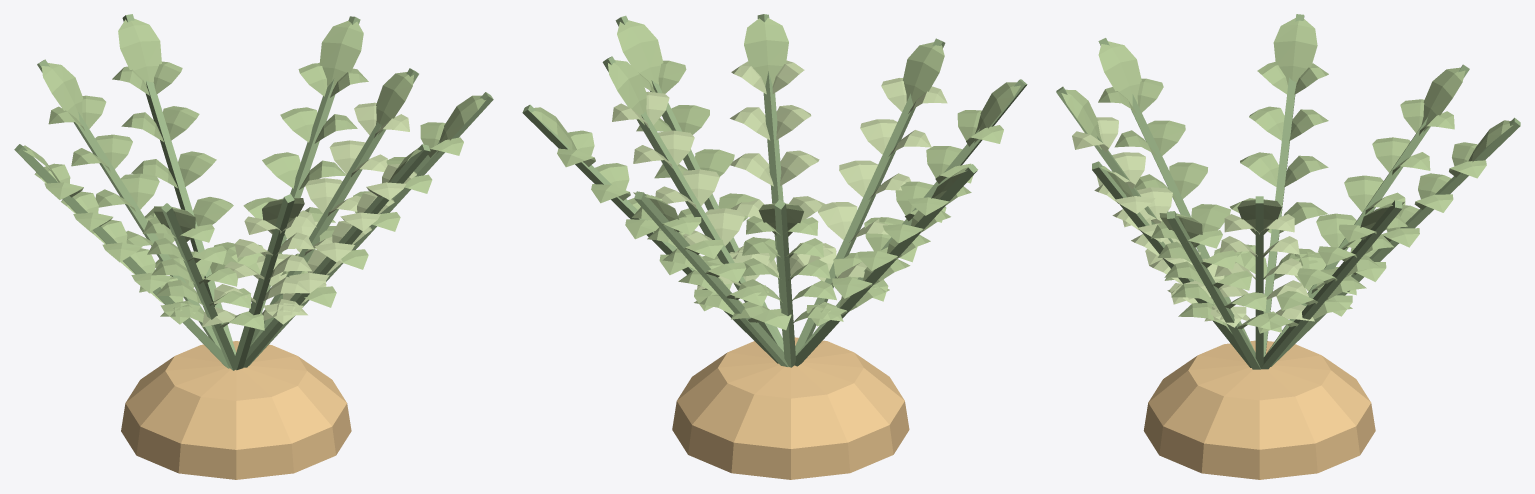
File: crafted-crop-carrot-3.glb
3 views of the same model, side by side, from view 1: azimuth 30°, elevation 25°; view 2: azimuth 150°, elevation 25°; view 3: azimuth 270°, elevation 25° (orthographic). The views are drawn at different scales.
Parts seen in each view (by area): view 1: root-shoulder, frond-tip-2, frond-tip-5, frond-tip-7, frond-tip, frond-stem-0-2, frond-stem-0-3, frond-stem-0, frond-stem-0-6, frond-stem-0-1, frond-stem-0-7, frond-stem-1-3 (+33 smaller); view 2: root-shoulder, frond-tip-3, frond-tip-8, frond-tip-6, frond-stem-0-6, frond-tip, frond-stem-0-2, frond-stem-0, frond-stem-0-4, frond-stem-1-5, frond-stem-1-2, frond-stem-0-7 (+33 smaller); view 3: root-shoulder, frond-tip-4, frond-tip-1, frond-stem-0-5, frond-tip-7, frond-stem-0-4, frond-stem-0-8, frond-stem-1-2, frond-stem-1-5, frond-tip-6, frond-stem-1-3, carrot-leaflet-15 (+35 smaller).
Part boxes in pixels (x1,y1,x2,y2): root-shoulder: [121, 341, 351, 479]; frond-tip-2: [118, 18, 161, 85]; frond-tip-5: [319, 20, 363, 88]; frond-tip-7: [41, 63, 83, 126]; frond-tip: [376, 72, 413, 134]; frond-stem-0-2: [166, 156, 235, 355]; frond-stem-0-3: [243, 234, 354, 367]; frond-stem-0: [250, 188, 347, 346]; frond-stem-0-6: [235, 266, 273, 370]; frond-stem-0-1: [189, 273, 236, 370]; frond-stem-0-7: [115, 183, 221, 349]; frond-stem-1-3: [346, 144, 430, 240]; root-shoulder: [672, 337, 909, 479]; frond-tip-3: [744, 18, 788, 85]; frond-tip-8: [617, 20, 663, 87]; frond-tip-6: [903, 42, 944, 104]; frond-stem-0-6: [795, 169, 885, 354]; frond-tip: [608, 60, 647, 124]; frond-stem-0-2: [695, 262, 788, 366]; frond-stem-0: [676, 180, 783, 351]; frond-stem-0-4: [794, 247, 904, 366]; frond-stem-1-5: [522, 104, 635, 216]; frond-stem-1-2: [634, 191, 704, 268]; frond-stem-0-7: [778, 269, 795, 367]; root-shoulder: [1143, 340, 1375, 479]; frond-tip-4: [1273, 18, 1317, 84]; frond-tip-1: [1098, 41, 1141, 106]; frond-stem-0-5: [1260, 267, 1346, 369]; frond-tip-7: [1421, 67, 1465, 131]; frond-stem-0-4: [1263, 156, 1287, 356]; frond-stem-0-8: [1202, 274, 1260, 369]; frond-stem-1-2: [1411, 117, 1520, 225]; frond-stem-1-5: [1339, 200, 1402, 275]; frond-tip-6: [1061, 89, 1101, 149]; frond-stem-1-3: [1092, 161, 1164, 251]; carrot-leaflet-15: [1169, 162, 1207, 198].
Bounding box in the file's own units: 0.5373 × 0.398 × 0.52.
